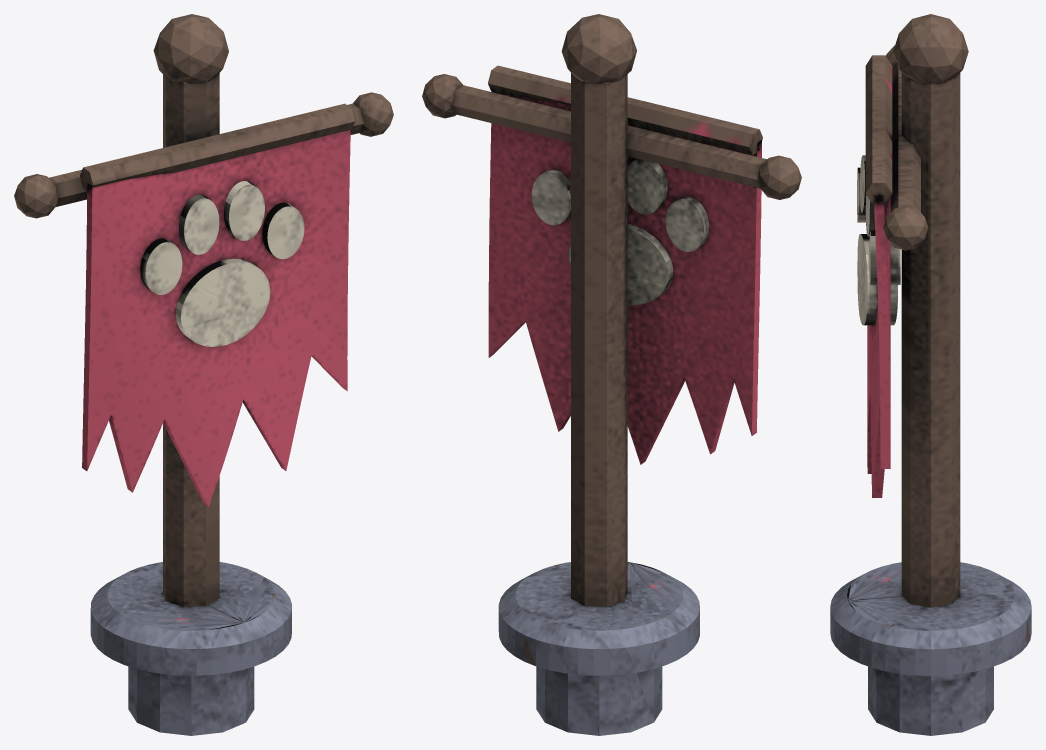
The model's file is Banner_Pata_Carmesi.glb.
3 renders of one model, left to right at view 1: azimuth 30°, elevation 25°; view 2: azimuth 150°, elevation 25°; view 3: azimuth 270°, elevation 25°, orthographic.
Parts seen in each view (by area): view 1: Cloth, BaseDisc, Symbol_Front, Pole, Hem, MountPeg, Finial, CrossbarKnob_1, CrossbarKnob_2, Crossbar; view 2: Cloth, Pole, BaseDisc, Symbol_Back, Crossbar, MountPeg, Hem, Finial, CrossbarKnob_1, CrossbarKnob_2; view 3: Pole, BaseDisc, MountPeg, Cloth, Finial, Hem, Crossbar, Symbol_Front, CrossbarKnob_2, Symbol_Back.
Part boxes in pixels (x1=…): Cloth: x1=82, y1=130, x2=350, y2=507; BaseDisc: x1=90, y1=562, x2=291, y2=675; Symbol_Front: x1=140, y1=181, x2=304, y2=346; Pole: x1=163, y1=73, x2=219, y2=607; Hem: x1=80, y1=103, x2=354, y2=193; MountPeg: x1=128, y1=666, x2=254, y2=735; Finial: x1=153, y1=14, x2=228, y2=83; CrossbarKnob_1: x1=14, y1=174, x2=58, y2=218; CrossbarKnob_2: x1=353, y1=92, x2=393, y2=136; Crossbar: x1=49, y1=103, x2=365, y2=206; Cloth: x1=488, y1=91, x2=761, y2=464; Pole: x1=571, y1=73, x2=627, y2=607; BaseDisc: x1=498, y1=562, x2=699, y2=675; Symbol_Back: x1=531, y1=158, x2=708, y2=305; Crossbar: x1=451, y1=85, x2=766, y2=188; MountPeg: x1=536, y1=666, x2=662, y2=735; Hem: x1=488, y1=65, x2=762, y2=155; Finial: x1=561, y1=14, x2=636, y2=83; CrossbarKnob_1: x1=757, y1=155, x2=801, y2=199; CrossbarKnob_2: x1=422, y1=74, x2=462, y2=118; Pole: x1=901, y1=73, x2=960, y2=607; BaseDisc: x1=830, y1=562, x2=1031, y2=675; MountPeg: x1=868, y1=666, x2=993, y2=735; Cloth: x1=867, y1=195, x2=890, y2=497; Finial: x1=893, y1=14, x2=968, y2=84; Hem: x1=865, y1=55, x2=892, y2=204; Crossbar: x1=890, y1=63, x2=920, y2=212; Symbol_Front: x1=857, y1=155, x2=877, y2=325; CrossbarKnob_2: x1=883, y1=205, x2=928, y2=250; Symbol_Back: x1=890, y1=244, x2=900, y2=325.
Bounding box in the file's own units: 0.514 × 0.91 × 0.24.
4 materials, 4 textured.
